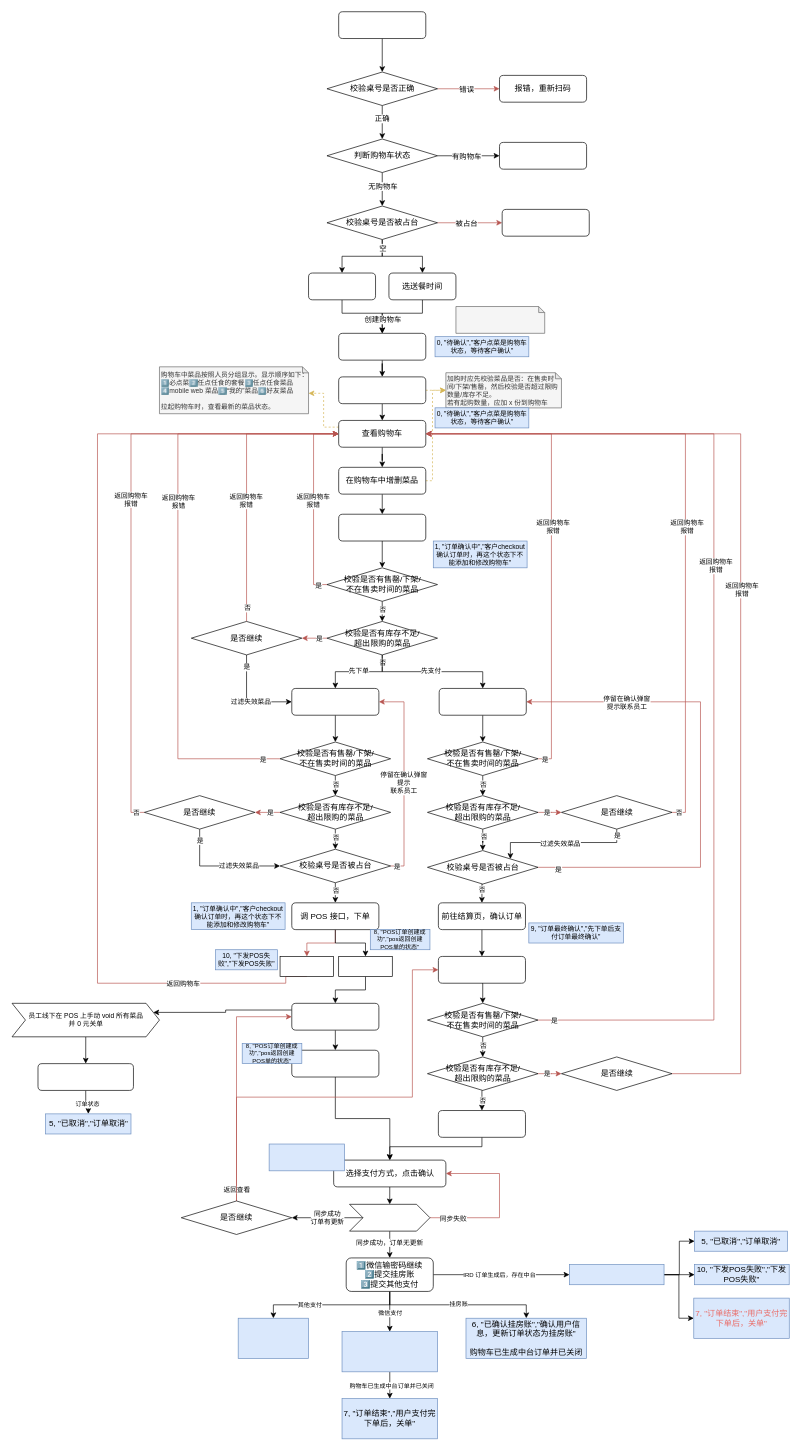
Some shapes in this 801 by 1451 pixel diagram are drawn without their labels. The box of each missing label's shape, as (x1, y1, x2, y2) in pixels:
12, "其他支付方式","其他支付方式": (238, 1318, 309, 1358)
2, "待下单","待下发订单到POS": (569, 1264, 664, 1285)
3, "待支付","下单成功，更新订单状态为待支付-先支付后下单的": (268, 1143, 345, 1171)
4, "已支付","支付成功，更新订单状态为已支付": (341, 1331, 438, 1372)
下单失败: (279, 956, 334, 977)
下单成功: (338, 956, 392, 977)
前往下单: (338, 514, 426, 541)
前往结算页，查看订单: (291, 1003, 379, 1030)
加购/删减菜品: (338, 376, 426, 404)
去支付: (438, 1110, 525, 1137)
去结算: (291, 1050, 379, 1077)
同步回小程序，生成订单: (37, 1063, 133, 1090)
报错，需要重新扫码: (501, 209, 589, 236)
用户扫码进入小程序: (338, 11, 426, 39)
结算，去支付: (438, 956, 525, 983)
调 POS 接口 同步POS 订单: (349, 1204, 430, 1231)
跳转到对应的页面: (499, 142, 587, 169)
输备注，去结算: (439, 688, 526, 715)
输备注，确认下单: (291, 688, 379, 715)
进入菜单页浏览菜单: (338, 333, 426, 360)
选人数: (308, 272, 376, 300)
餐厅点餐，如有必点菜品，需要根据人数加 x 份到购物车。: (455, 306, 545, 333)
